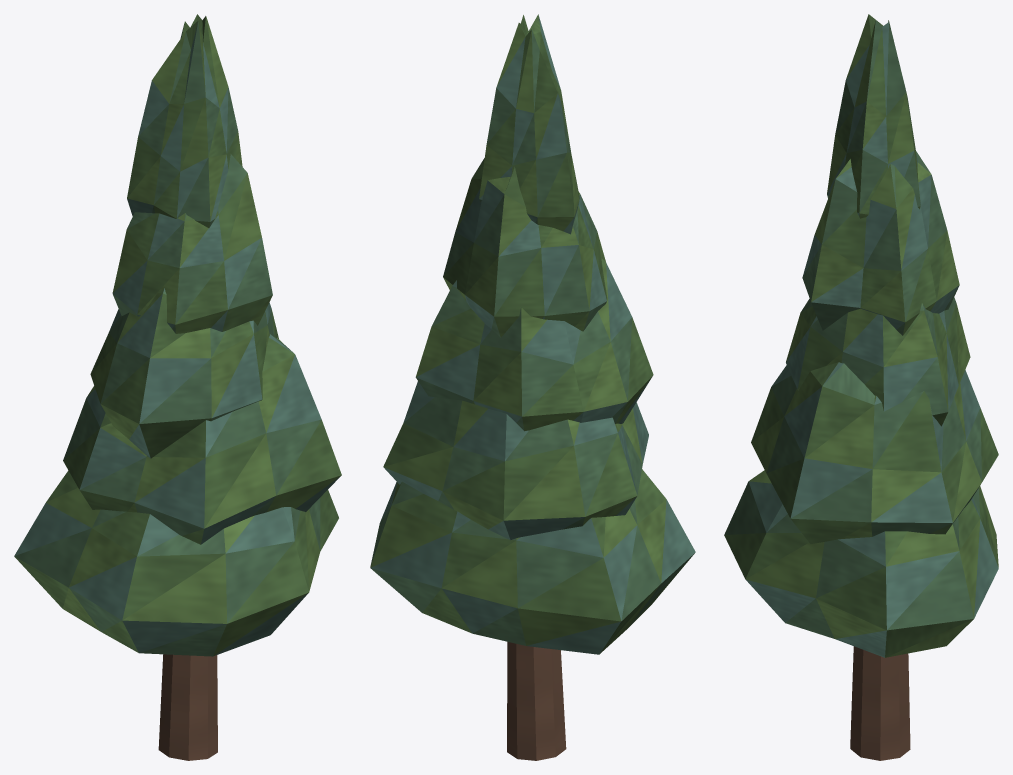
File: tree_spruce_03.fbx
3 views of the same model, side by side, from view 1: azimuth 30°, elevation 25°; view 2: azimuth 150°, elevation 25°; view 3: azimuth 270°, elevation 25° (orthographic).
Visible parts, largest first — view 1: tree_spruce_03; view 2: tree_spruce_03; view 3: tree_spruce_03.
Boxes of the visible parts, x1=… form: tree_spruce_03: x1=14, y1=14, x2=341, y2=760; tree_spruce_03: x1=370, y1=14, x2=695, y2=760; tree_spruce_03: x1=724, y1=14, x2=998, y2=760.
Size of the model in its own units: 551 by 1360 by 460.
1 material, 1 textured.
